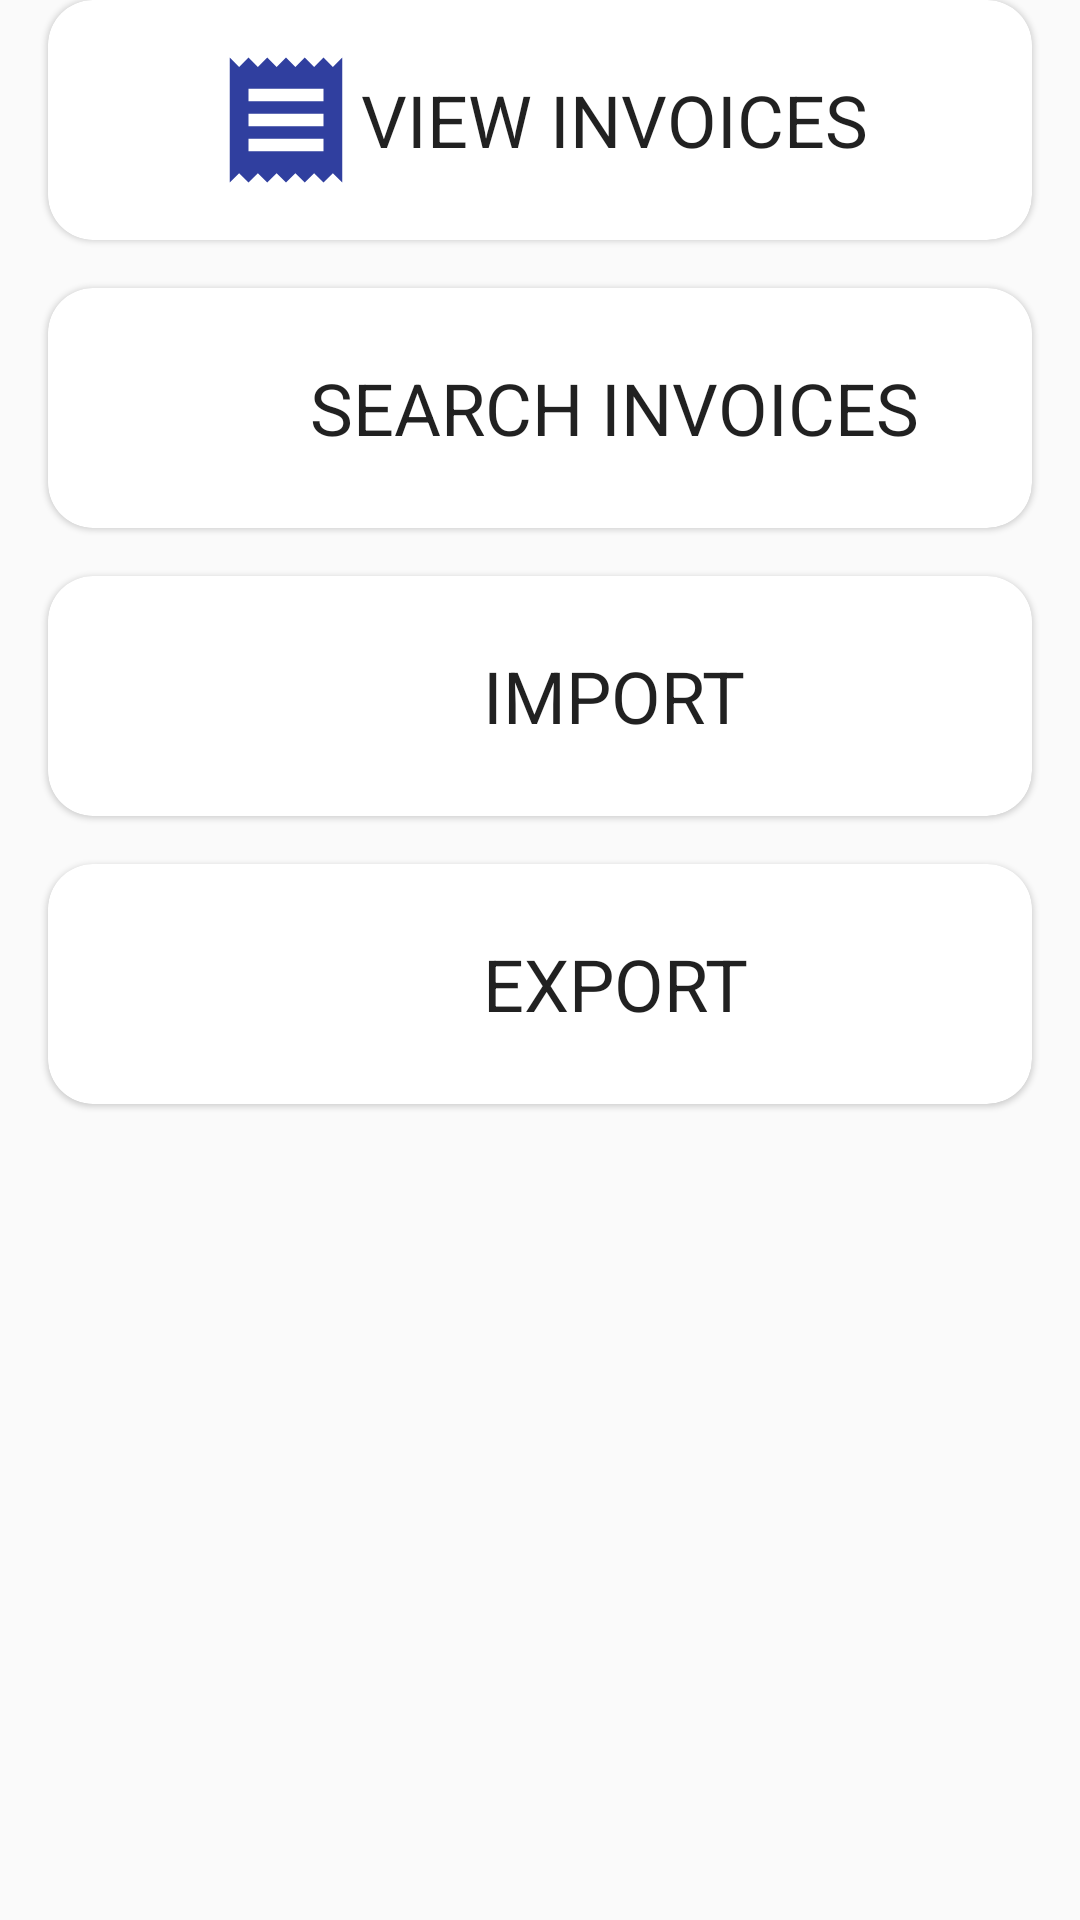

Where to tap for icons on this 1080px x 1920px app screen, as [x,y]:
receipt: [286,120]
